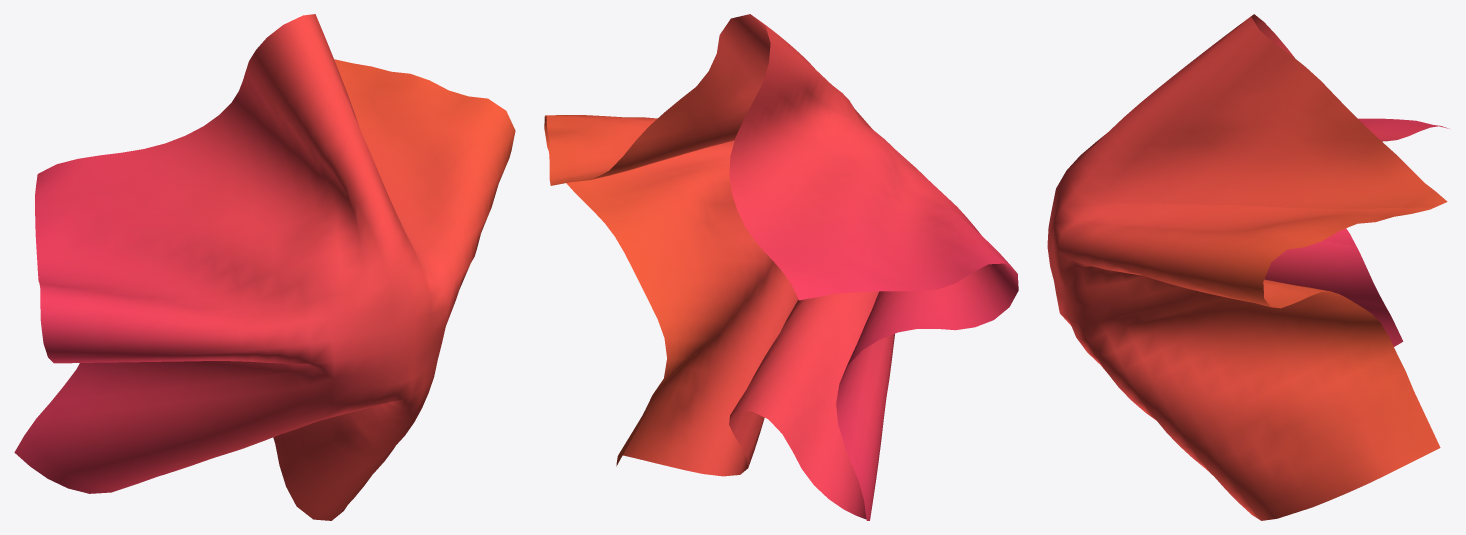
The picture shows the model from 3 angles, left to right: view 1: azimuth 30°, elevation 25°; view 2: azimuth 150°, elevation 25°; view 3: azimuth 270°, elevation 25°; orthographic projection. The views are drawn at different scales.
Visible parts, largest first — view 1: Mesh; view 2: Mesh; view 3: Mesh.
Boxes of the visible parts, box(x1,y1,x2,y2) form: Mesh: box(14, 14, 515, 520); Mesh: box(544, 14, 1018, 520); Mesh: box(1047, 14, 1449, 520).
Bounding box in the file's own units: 4.82 × 4.76 × 3.59.
Materials: 1 (1 with a texture image).
